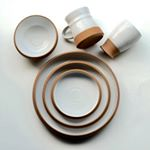cups: (58, 4, 107, 51), (98, 16, 145, 60)
